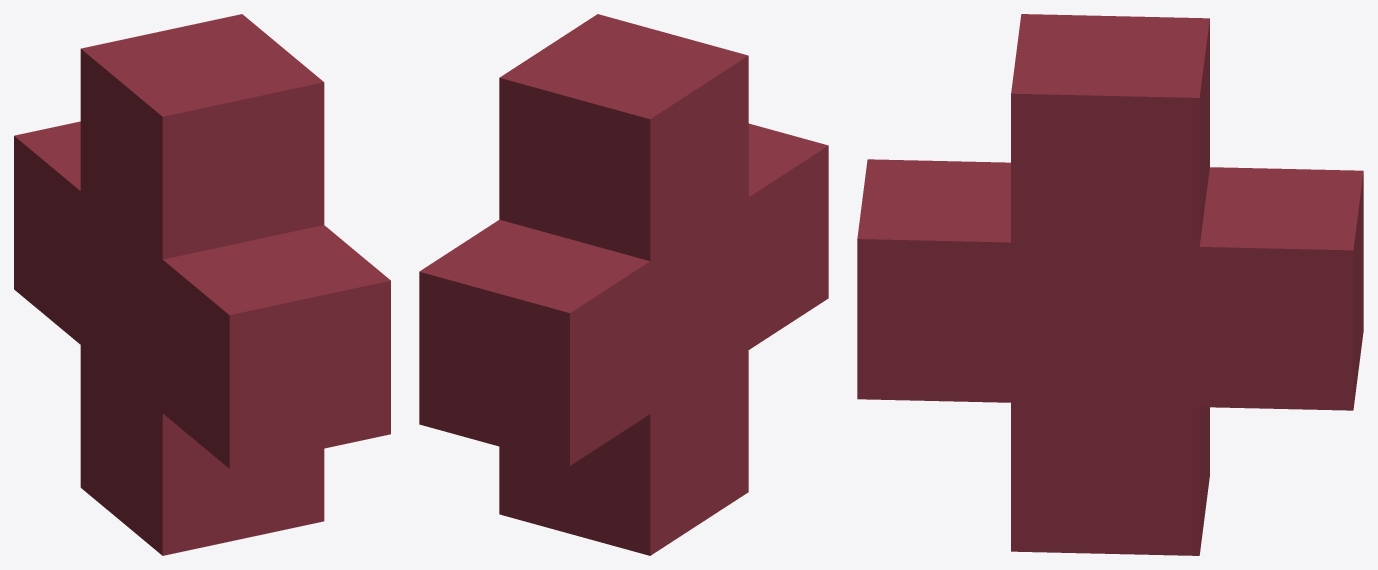
The model's file is Heal.glb.
3 renders of one model, left to right at view 1: azimuth 30°, elevation 25°; view 2: azimuth 150°, elevation 25°; view 3: azimuth 270°, elevation 25°, orthographic. The views are drawn at different scales.
Parts seen in each view (by area): view 1: Cube; view 2: Cube; view 3: Cube.
Boxes of the visible parts, box(x1,y1,x2,y2) form: Cube: box(14, 14, 390, 555); Cube: box(419, 14, 828, 555); Cube: box(857, 14, 1363, 555).
Bounding box in the file's own units: 2.28 × 5.35 × 5.36.
